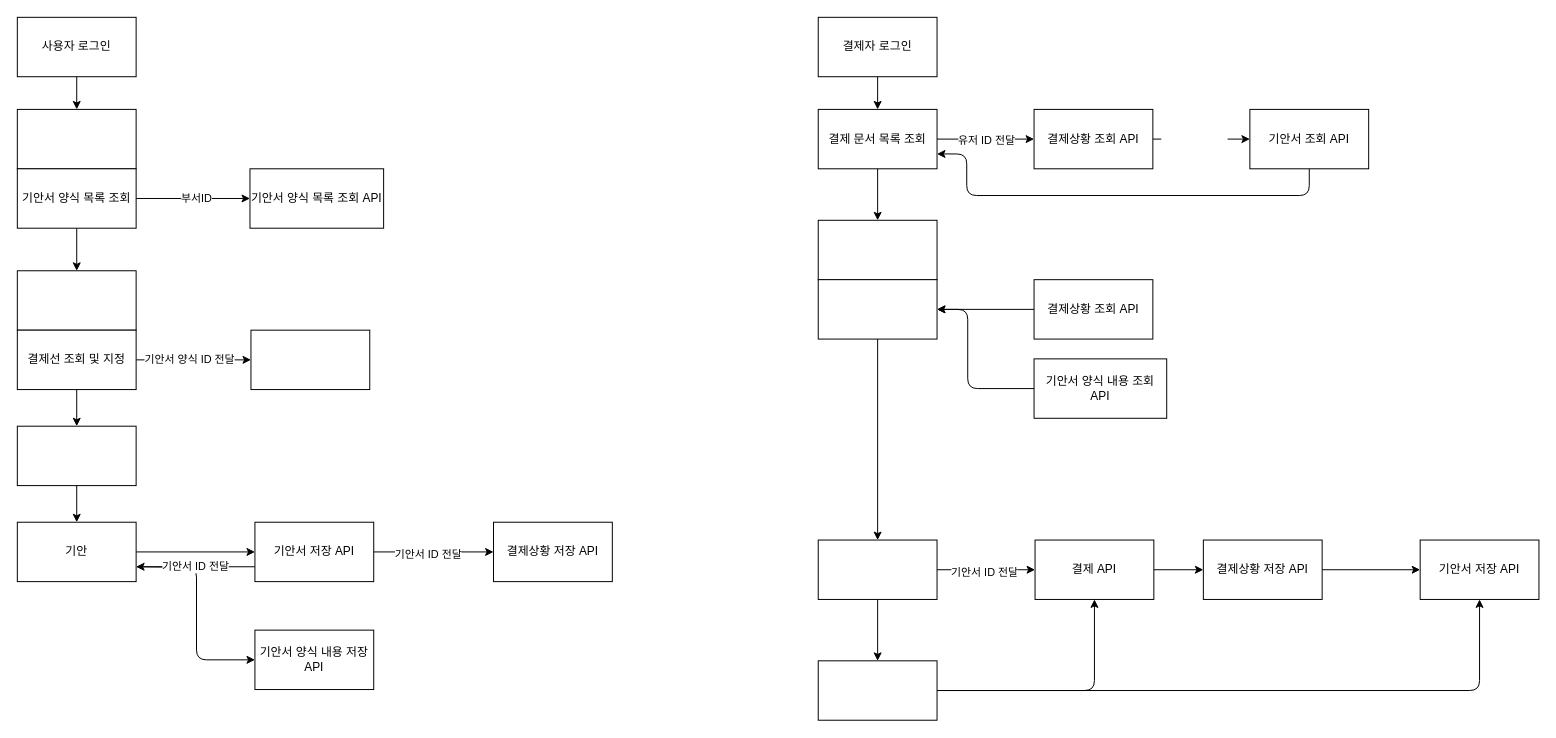
The diagram is 1556 pixels wide and 738 high, and some of its shapes have lost their labels. The shapes that lost their labels are listed below. From the top down, each one's centre as x and y in pixels, then its label:
the point at 76,138: 기안 작성 페이지
the point at 877,249: 결제 문서 선택
the point at 76,300: 기안서 양식 선택
the point at 877,309: 결제선 및 기안서 조회
the point at 310,359: 기안서 양식에 따른 결제 라인 조회 API
the point at 76,455: 기안서 내용 기입
the point at 877,569: 결제 또는 반려
the point at 877,690: 승인 및 합의 체크
